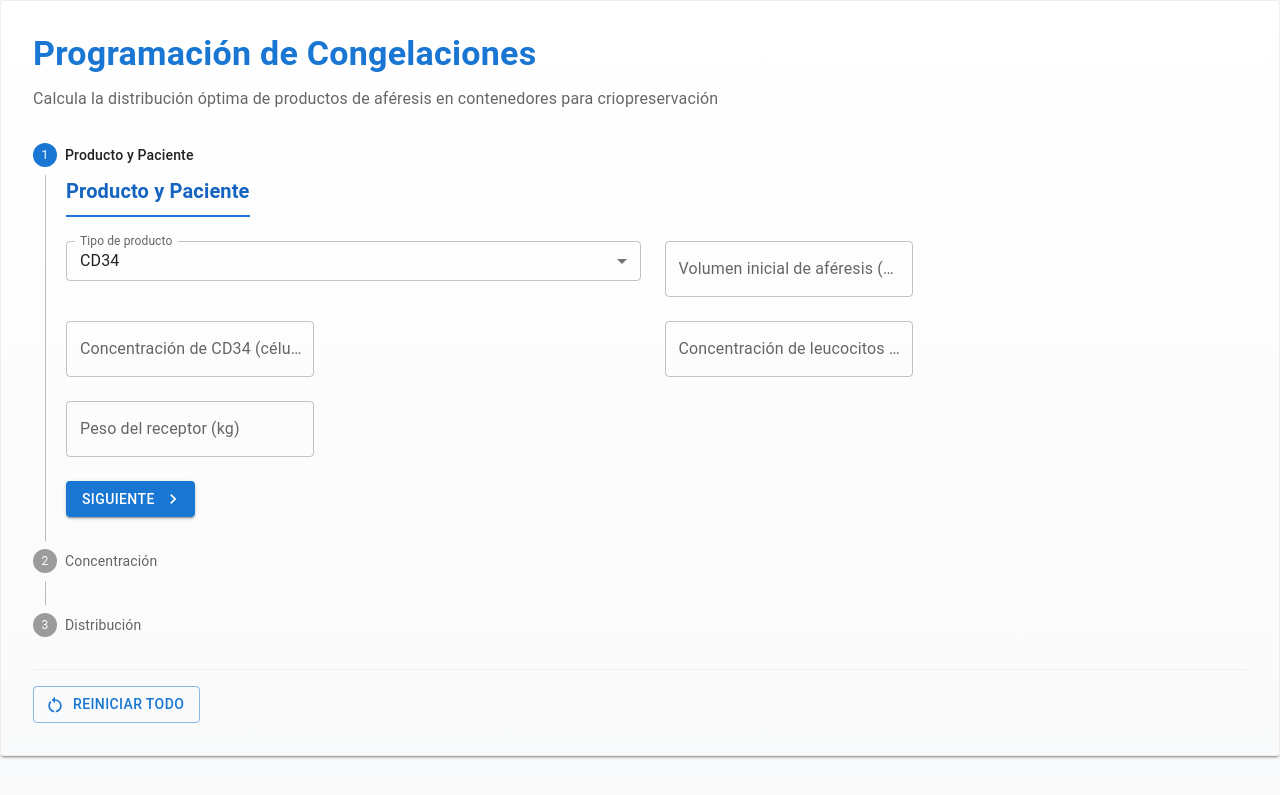
Test case: CryopreservationCalculator — dilución › muestra el DMSO estimado y avisa si supera el límite por kg
The width and height of the screenshot is (1280, 795).
Type "100" into the number field labelled "Volumen inicial de aféresis (ml)" at (788, 269), box [664,241,912,297]
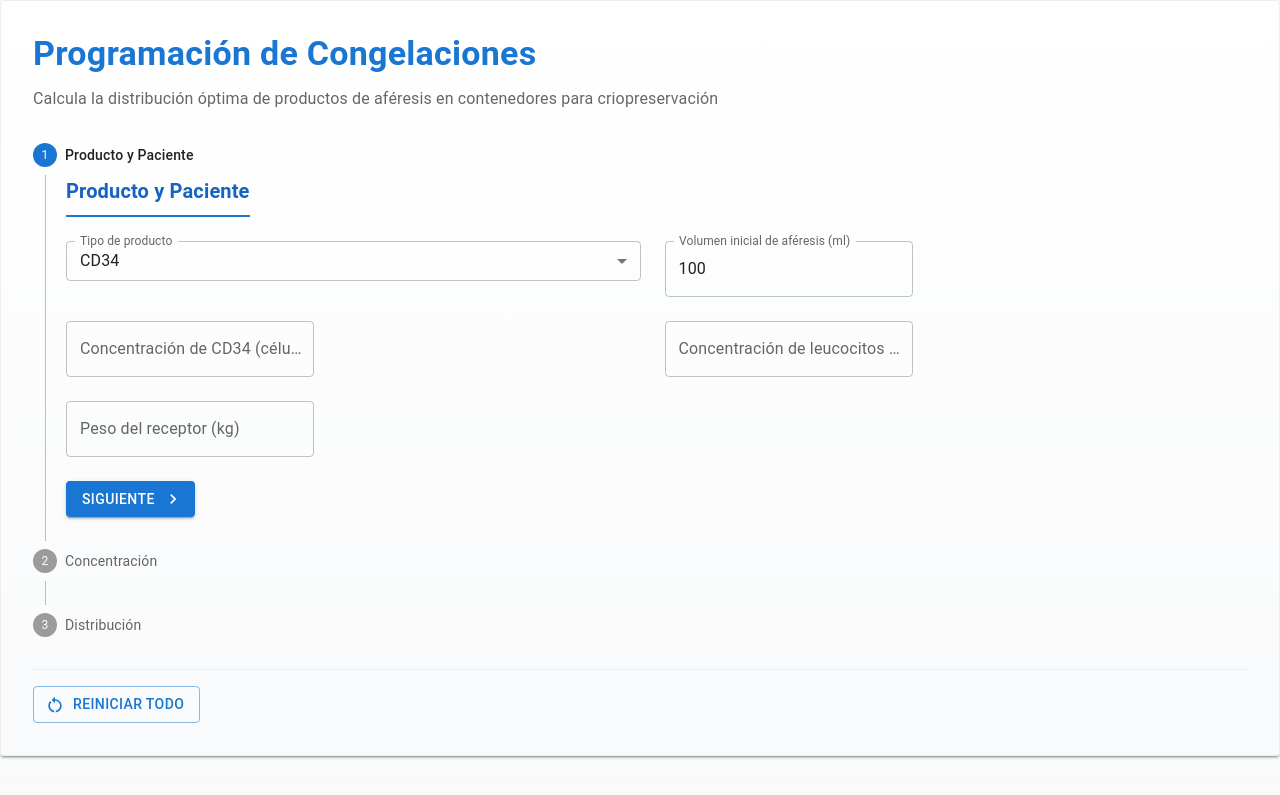
Type "1000" into the number field labelled "Concentración de CD34 (células/μL)" at (190, 349), box [66,321,314,377]
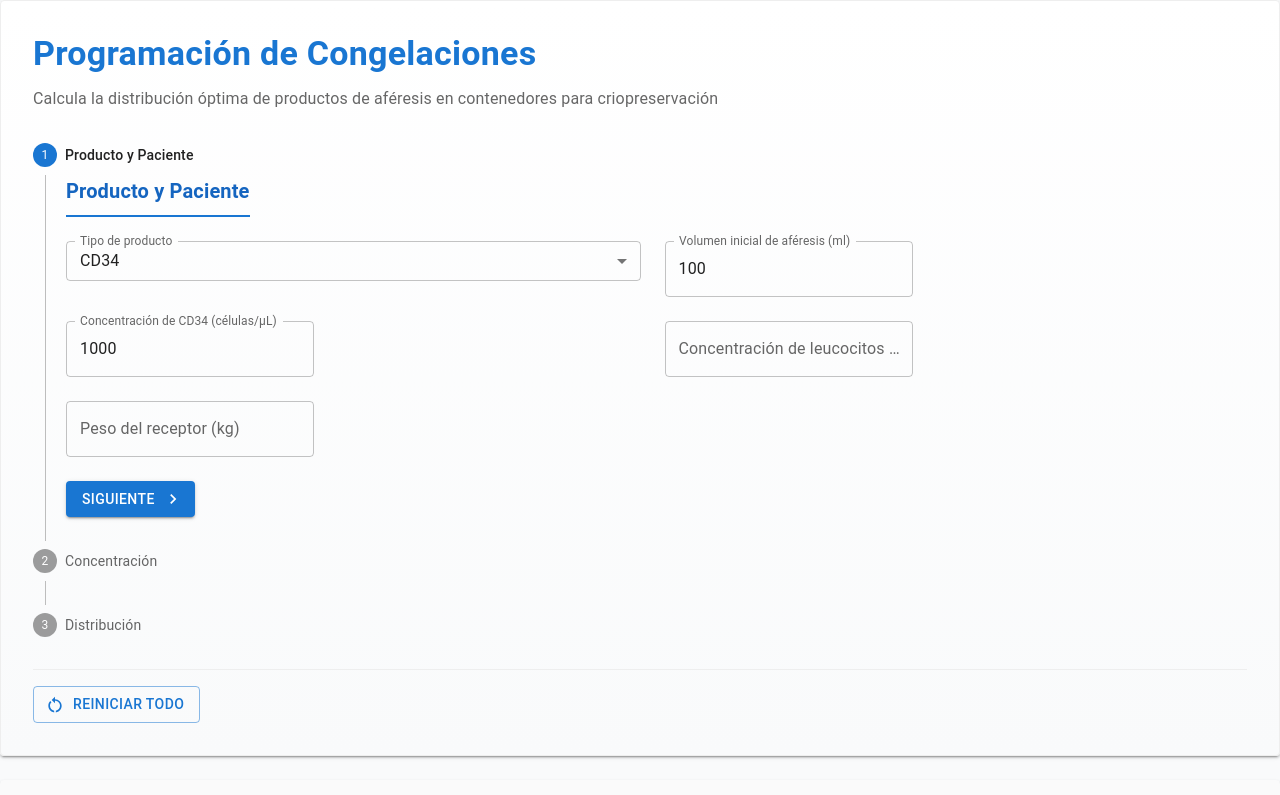
Type "400000" into the number field labelled "Concentración de leucocitos (células/mm³)" at (788, 349), box [664,321,912,377]
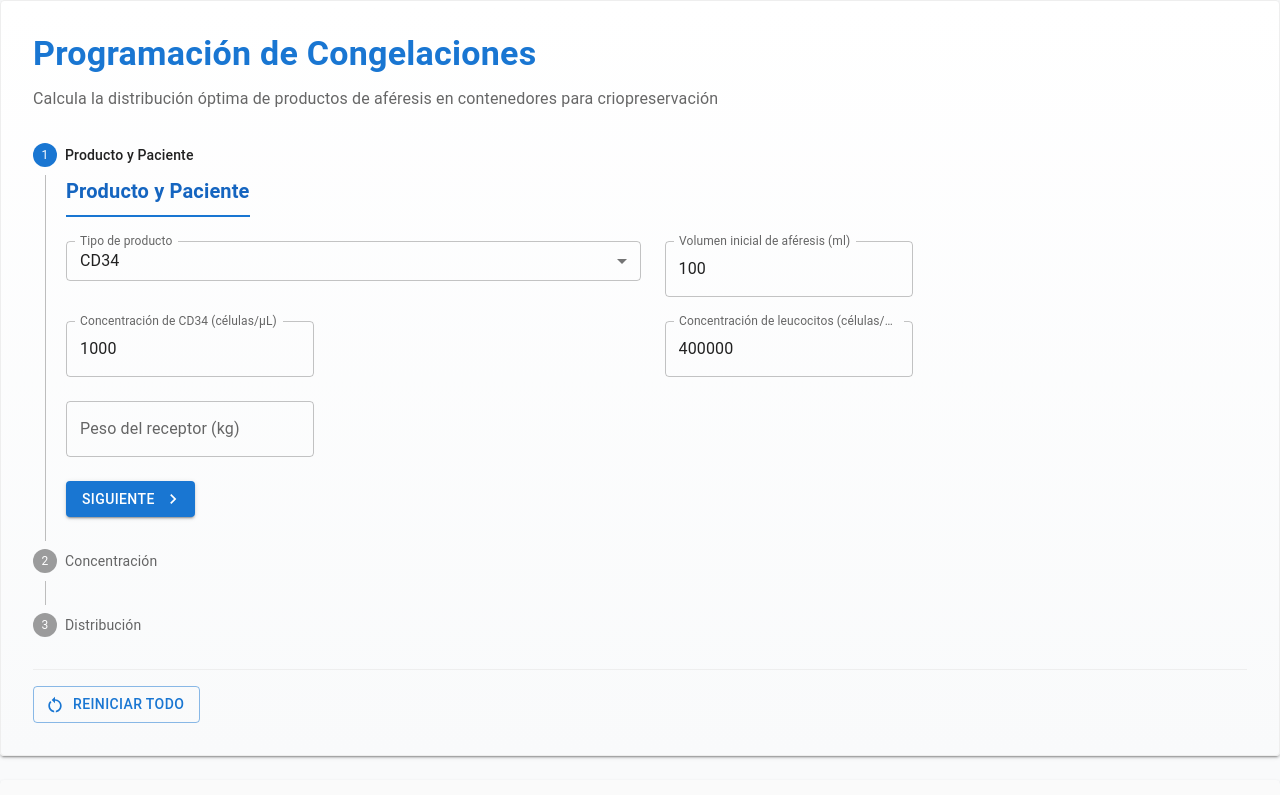
Type "20" into the number field labelled "Peso del receptor (kg)" at (190, 429), box [66,401,314,457]
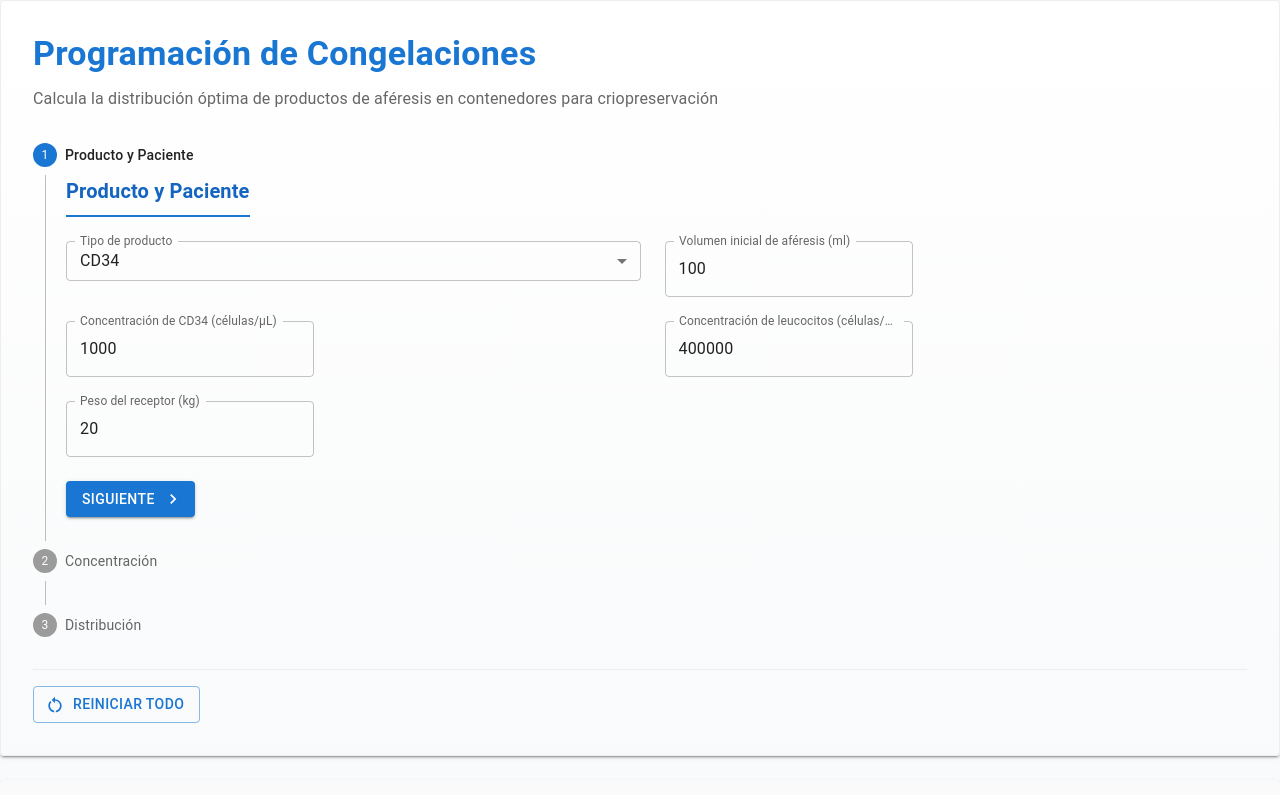
Click the button "Siguiente" at (130, 499), box [66,481,195,517]
(page scrolled)
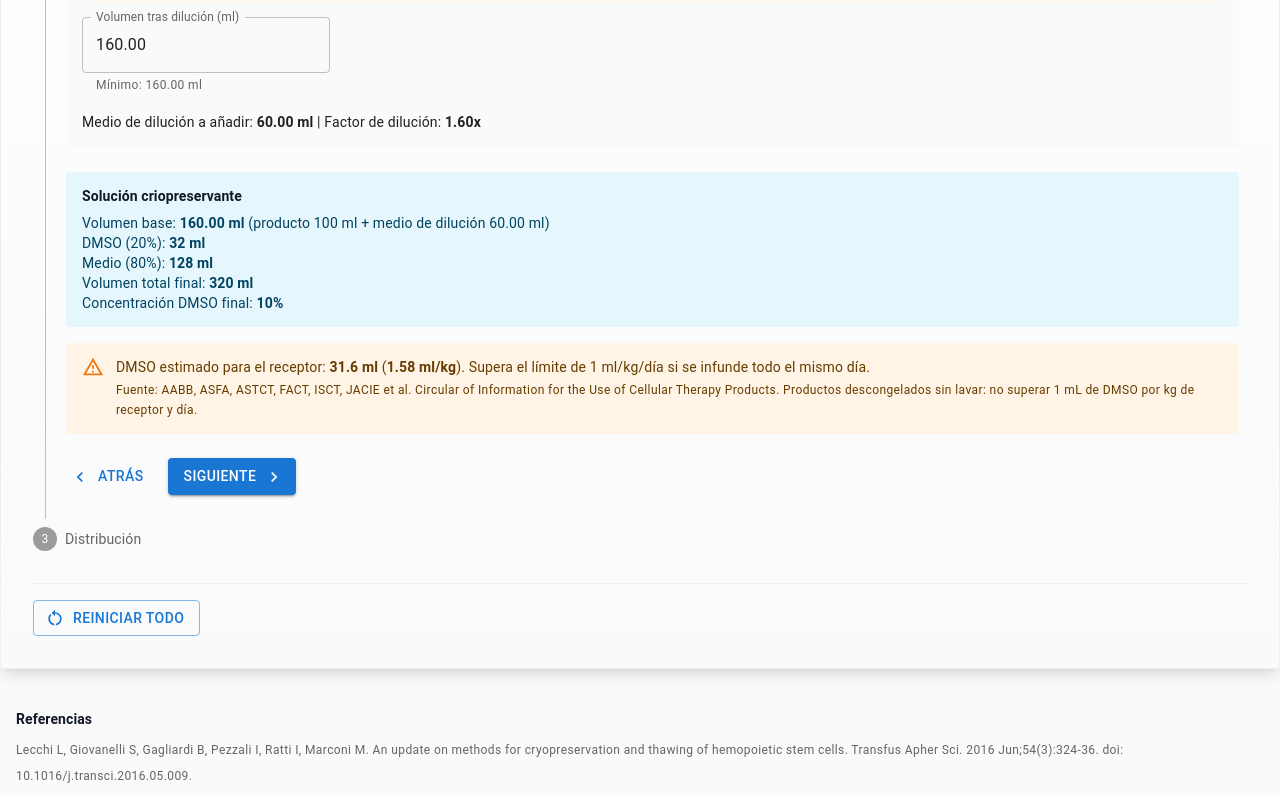
Now the text "Supera el límite de 1 ml/kg/día" is shown, box [469,359,870,375]
Now the text "Circular of Information" is shown, box [116,383,1194,417]
